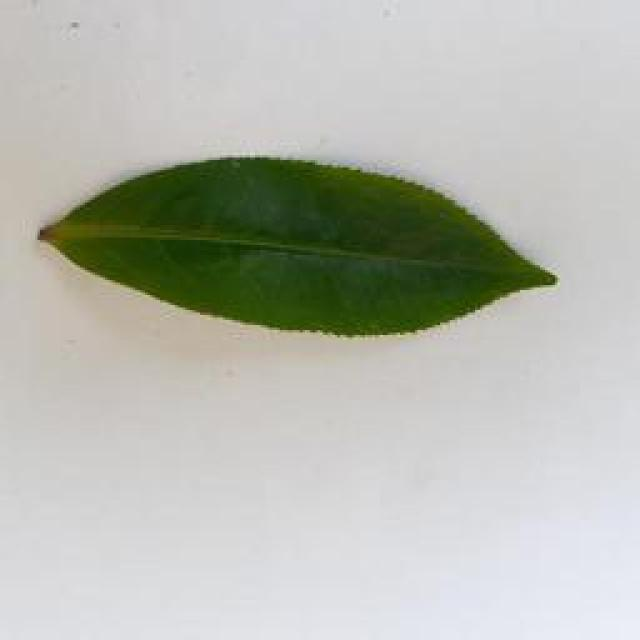Healthy: (37, 158, 578, 343)
